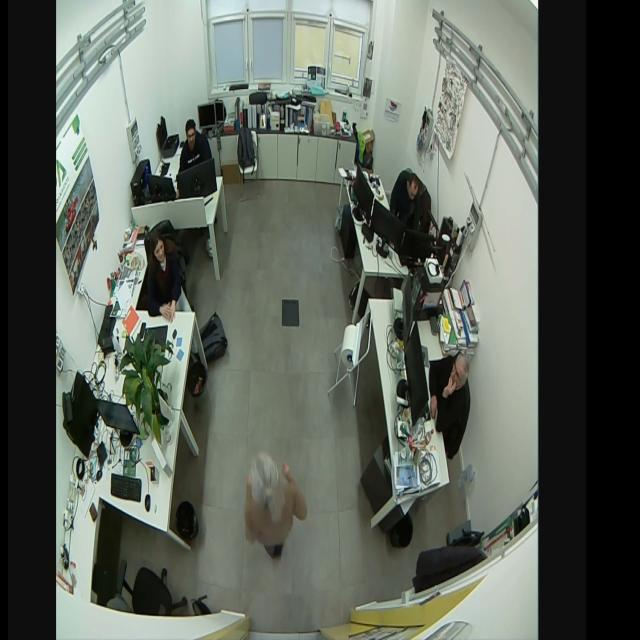Persona: (242, 446, 310, 558), (424, 346, 471, 456), (143, 230, 192, 322), (176, 115, 210, 177), (389, 170, 423, 226)
